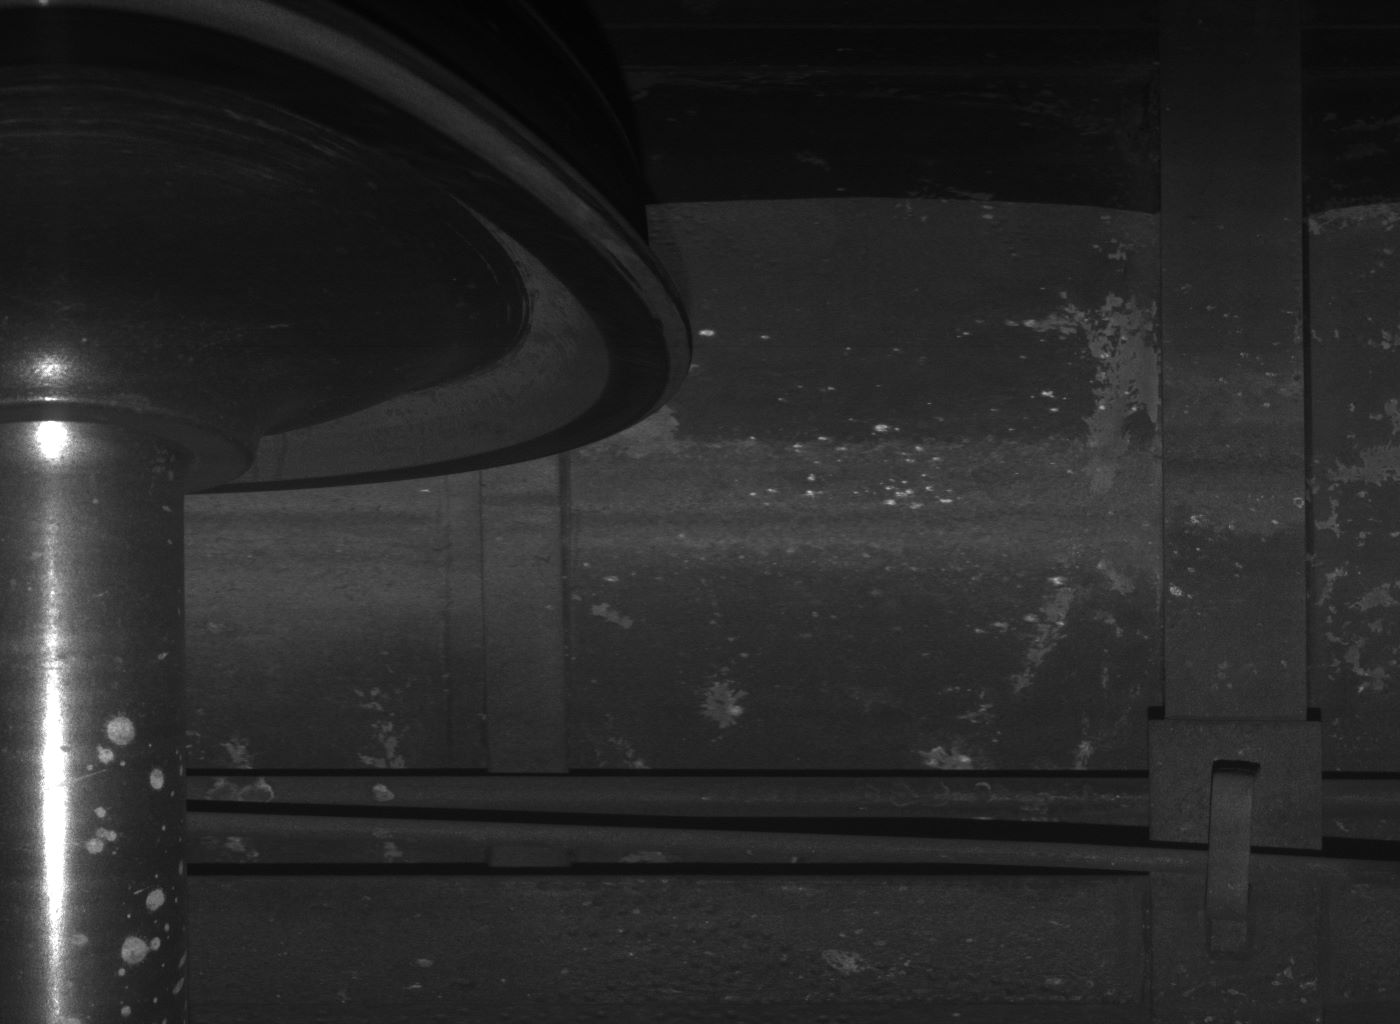normal: (1205, 773, 1253, 958)
